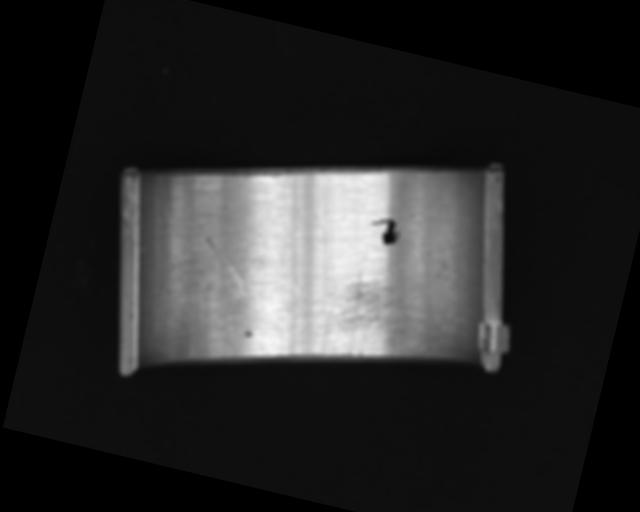blot: (367, 214, 402, 247)
bruise: (240, 327, 253, 339)
nick: (257, 170, 327, 296), (137, 171, 204, 269), (195, 236, 258, 295), (221, 287, 246, 344)
scratch: (308, 264, 447, 381)
